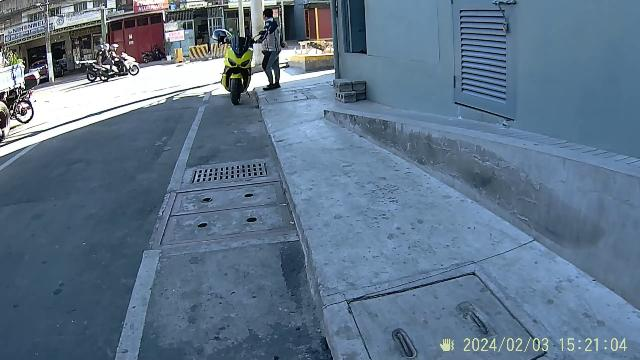motorcycle: (220, 29, 252, 103)
